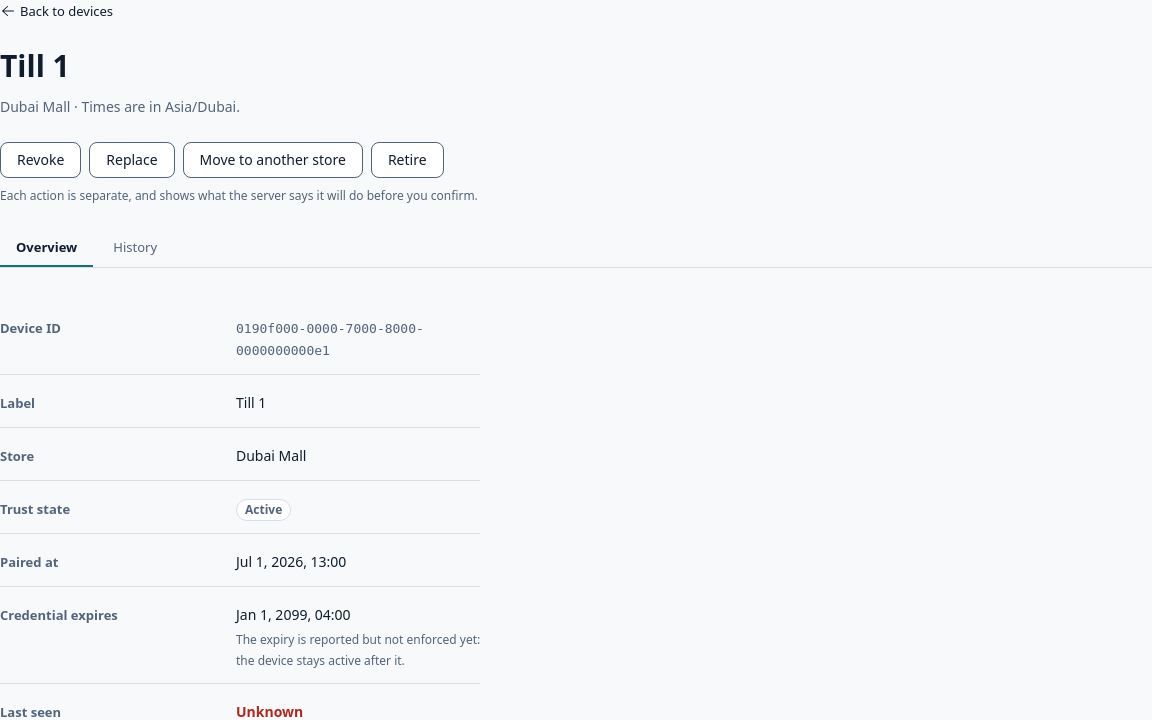
Test: Revoke (RT-372) › a legacy shift's cash facts read as unknown, never zero
The width and height of the screenshot is (1152, 720).
Check: the heading "Till 1" is shown, box x1=0 y1=45 x2=70 y2=86
Click the button "Revoke": {"x": 41, "y": 160} x1=0 y1=142 x2=81 y2=178
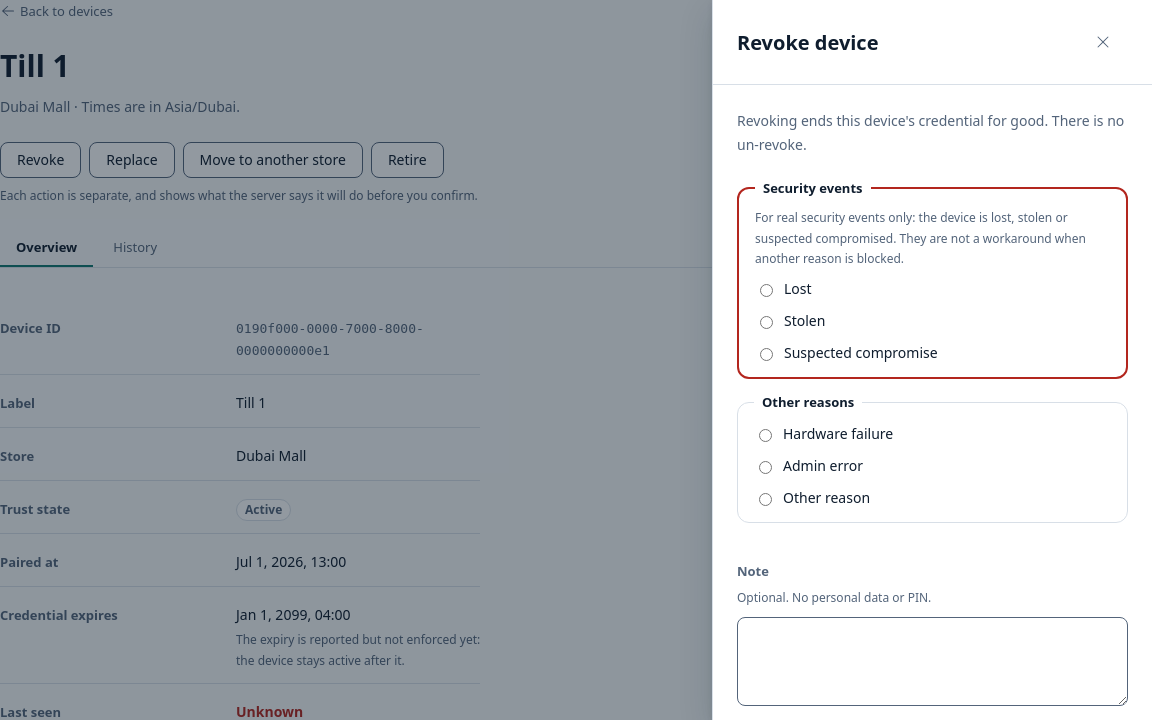
Click the radio button labelled "Lost": {"x": 766, "y": 291} x1=760 y1=284 x2=773 y2=297
(page scrolled)
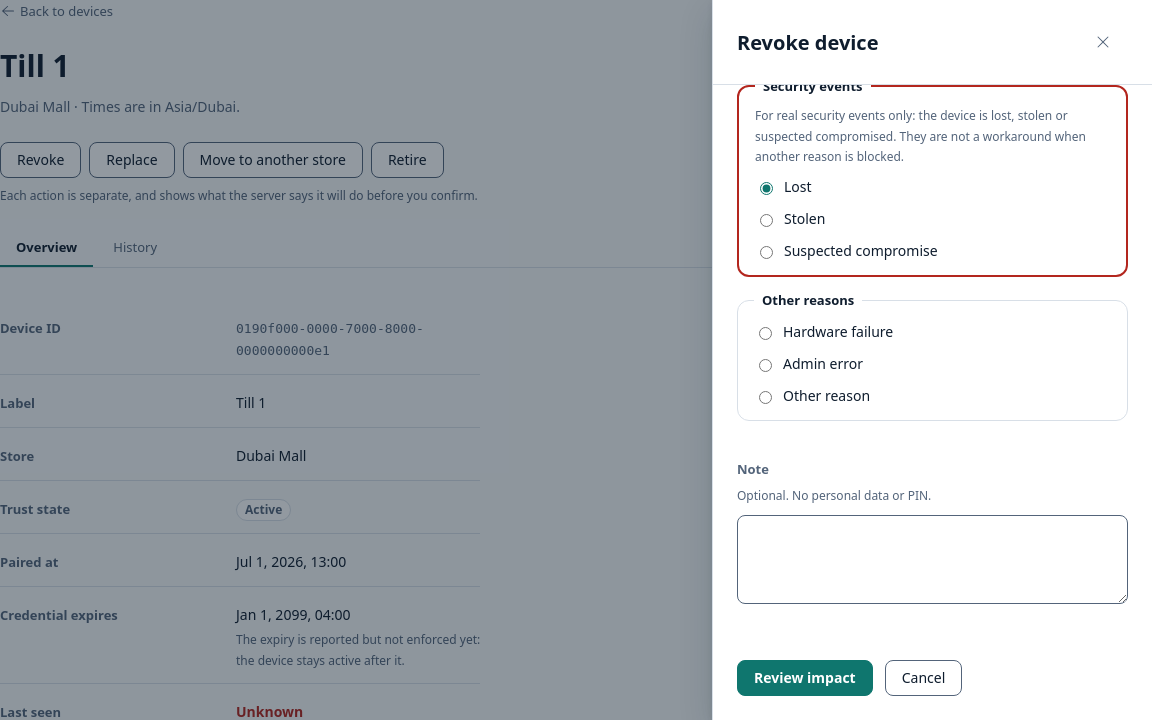
Click the button "Review impact": {"x": 805, "y": 678} x1=737 y1=660 x2=873 y2=696
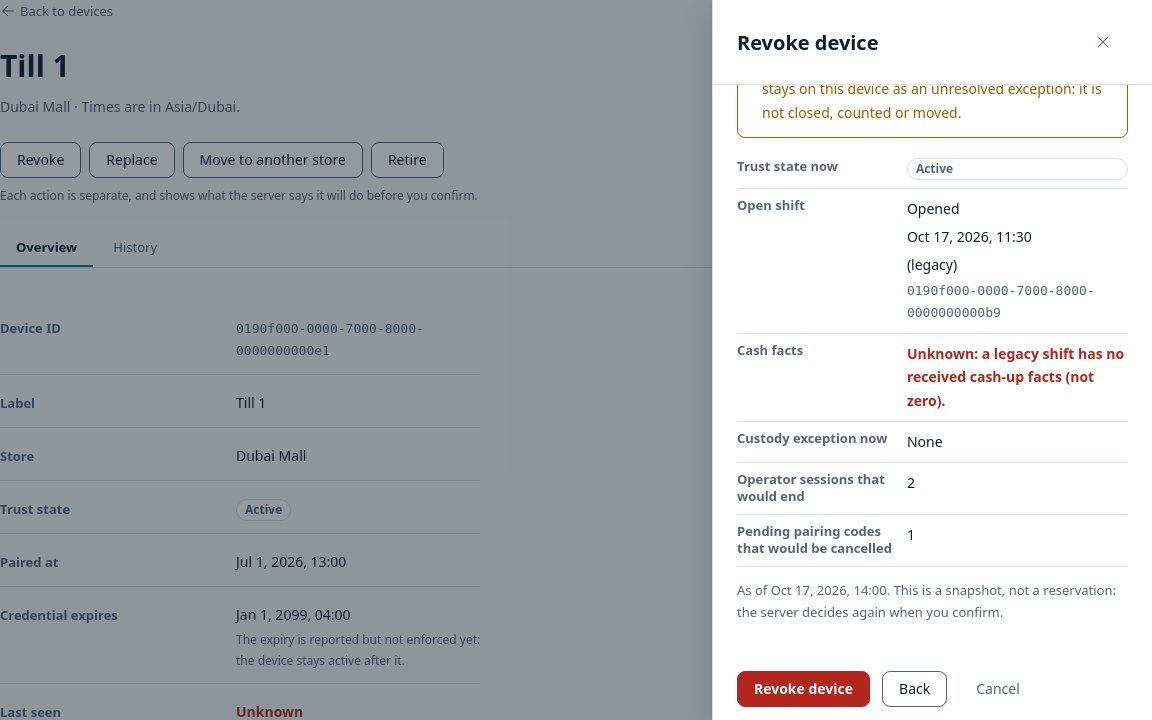
Check: the text "a legacy shift has no received cash-up facts" is shown, box x1=907 y1=344 x2=1124 y2=410
